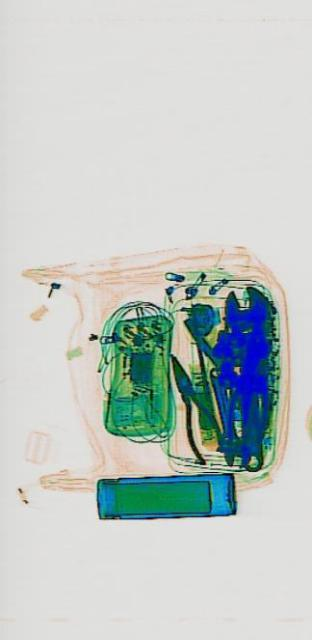Pliers: (157, 338, 222, 474)
Wrench: (221, 283, 272, 472)
